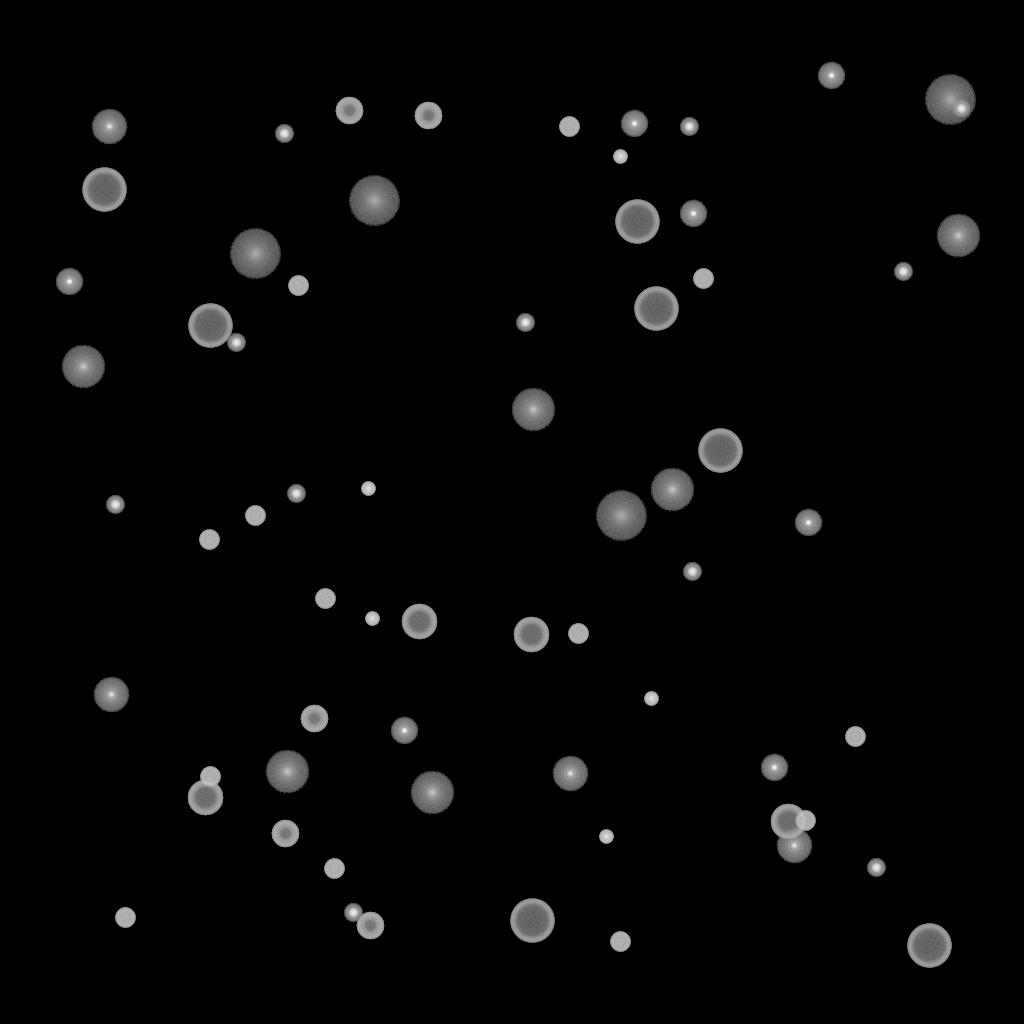depth:-10: (794, 509, 822, 537), (679, 200, 707, 228), (620, 110, 648, 138), (390, 717, 418, 745), (55, 268, 83, 296), (760, 754, 788, 782), (817, 62, 845, 90)
depth:-20: (106, 496, 124, 514), (683, 563, 701, 581), (516, 314, 534, 332), (227, 334, 245, 352), (344, 904, 362, 922), (867, 859, 885, 877), (287, 485, 305, 503), (952, 100, 970, 118), (894, 263, 912, 281), (275, 125, 293, 143), (680, 118, 698, 136)
depth:-30: (644, 692, 658, 706), (599, 830, 613, 844), (365, 612, 379, 626), (613, 150, 627, 164), (361, 482, 375, 496)
depth:-40: (288, 276, 308, 296), (568, 624, 588, 644), (115, 908, 135, 928), (324, 859, 344, 879), (610, 932, 630, 952), (200, 767, 220, 787), (315, 589, 335, 609), (845, 727, 865, 747), (693, 269, 713, 289), (795, 811, 815, 831), (245, 506, 265, 526), (199, 530, 219, 550), (559, 117, 579, 137)
depth:-50: (335, 97, 363, 125), (300, 705, 328, 733), (414, 102, 442, 130), (271, 820, 299, 848), (356, 912, 384, 940)
depth:-60: (513, 617, 549, 653), (770, 804, 806, 840), (401, 604, 437, 640), (187, 780, 223, 816)
depth:-70: (634, 287, 678, 331), (615, 200, 659, 244), (510, 899, 554, 943), (907, 924, 951, 968), (188, 304, 232, 348), (82, 168, 126, 212), (698, 429, 742, 473)
depth:0: (91, 109, 127, 145), (776, 828, 812, 864), (93, 677, 129, 713), (552, 756, 588, 792)
depth:10: (410, 771, 454, 815), (511, 388, 555, 432), (936, 214, 980, 258), (265, 750, 309, 794), (61, 345, 105, 389), (650, 468, 694, 512)
depth:20: (924, 75, 976, 125), (229, 229, 281, 279), (348, 176, 400, 226), (595, 491, 647, 541)
